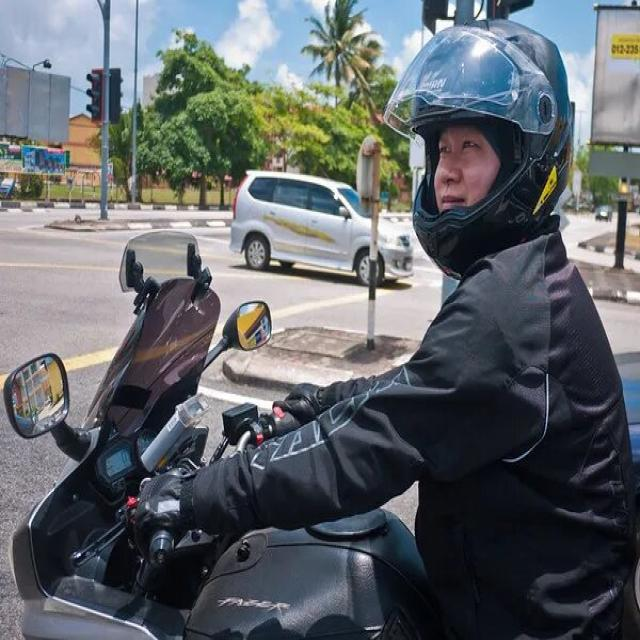helmet: (378, 9, 580, 288)
